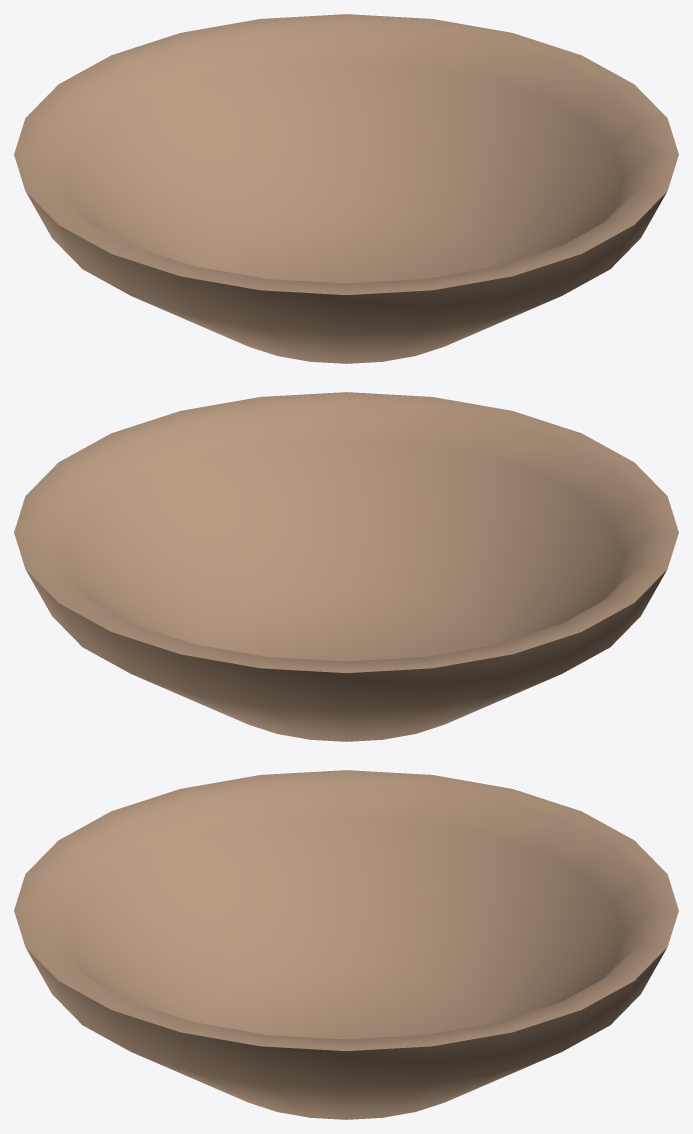
Rendered from ceramic-bowl-v01.glb.
3 renders of one model, top to bottom at view 1: azimuth 30°, elevation 25°; view 2: azimuth 150°, elevation 25°; view 3: azimuth 270°, elevation 25°, orthographic.
Parts seen in each view (by area): view 1: ceramic-bowl; view 2: ceramic-bowl; view 3: ceramic-bowl.
Boxes of the visible parts, bbox=[...] form: ceramic-bowl: bbox=[14, 14, 678, 363]; ceramic-bowl: bbox=[14, 392, 678, 741]; ceramic-bowl: bbox=[14, 770, 678, 1119].
Bounding box in the file's own units: 0.48 × 0.12 × 0.48.
